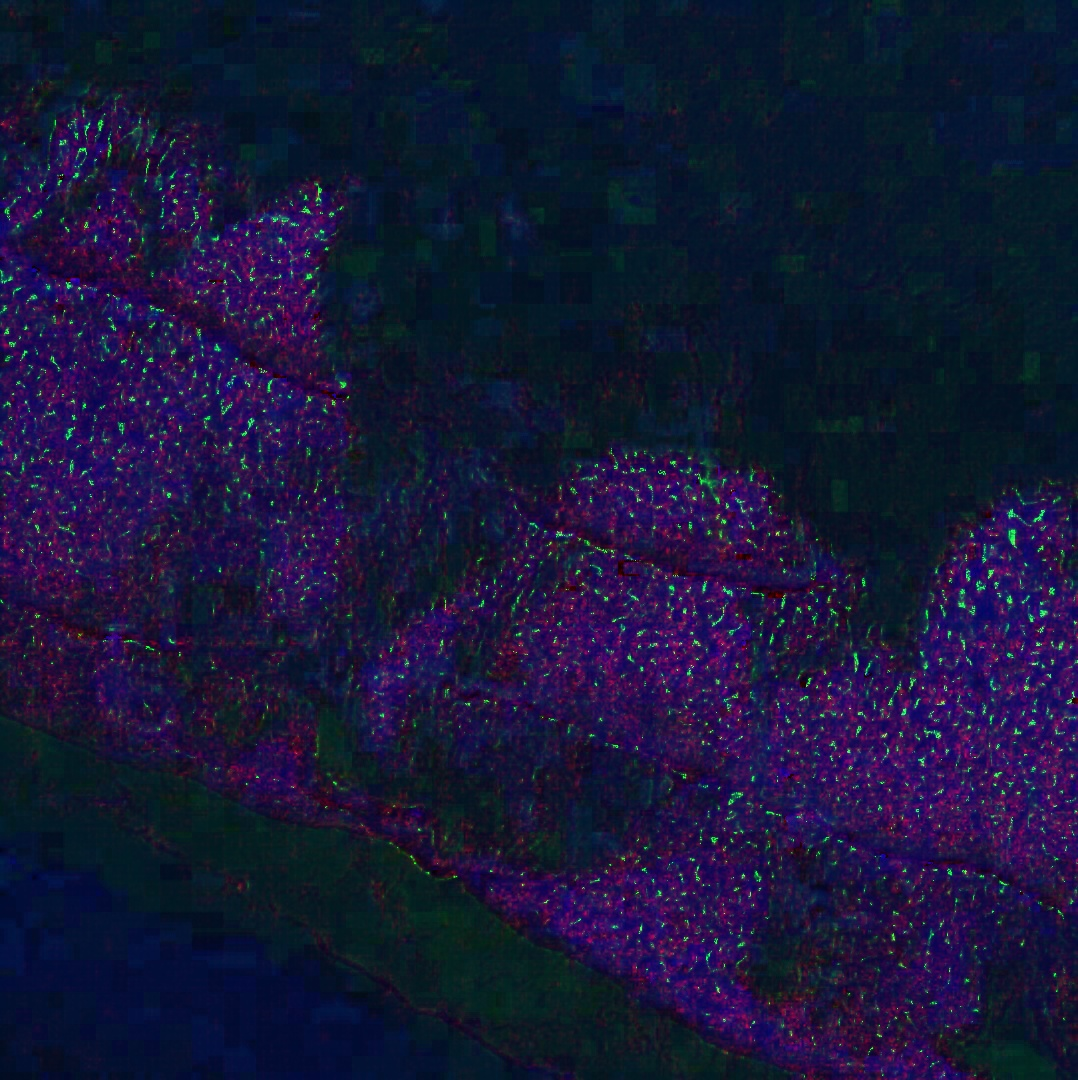rip_current: (242, 210, 568, 731)
